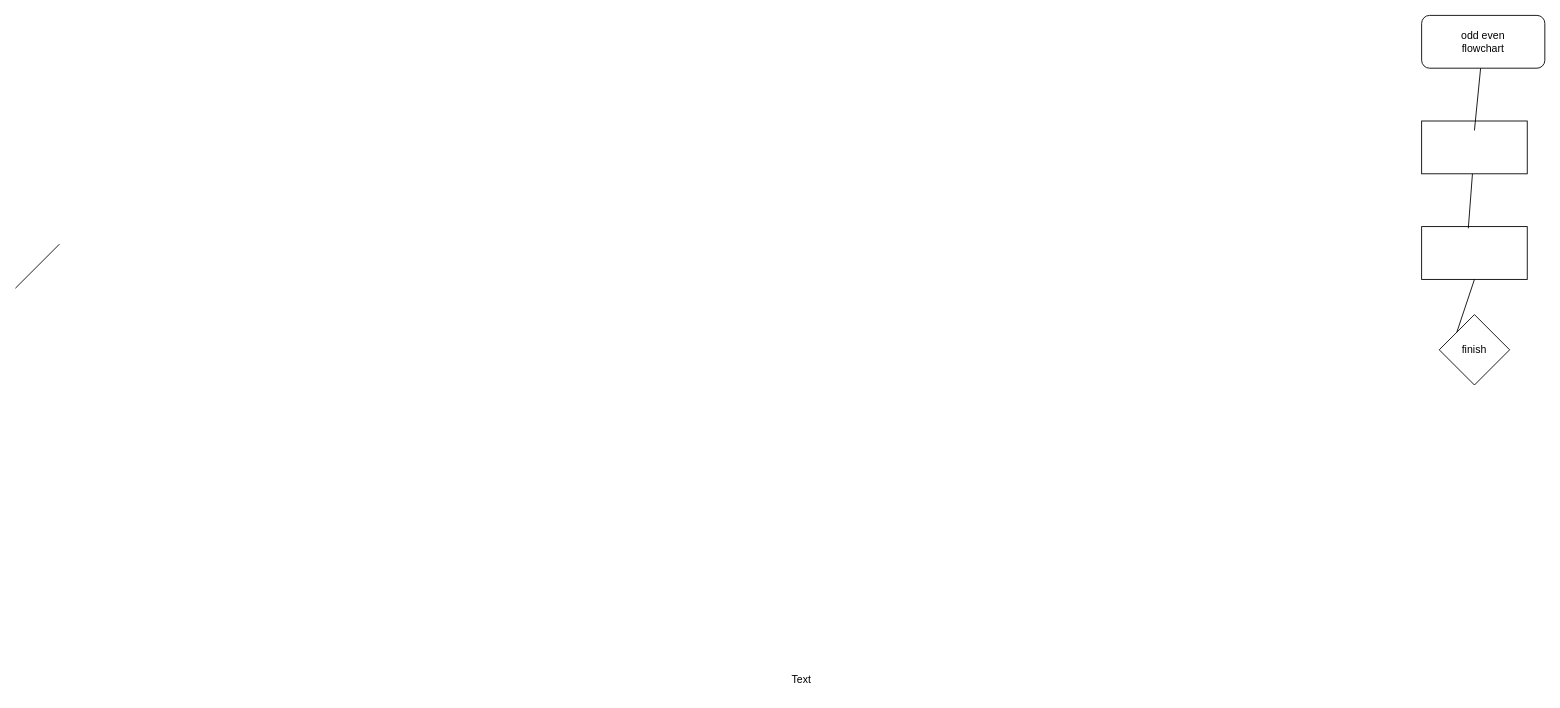
The diagram is 1560 pixels wide and 708 high, and some of its shapes have lost their labels. The shapes that lost their labels are listed below. From the top down, each one's box as (x1, y1, x2, y2) in pixels, then its label:
(1421, 120, 1527, 174): num 1 num 2
(1421, 226, 1527, 279): sum=num 1 and num 2
